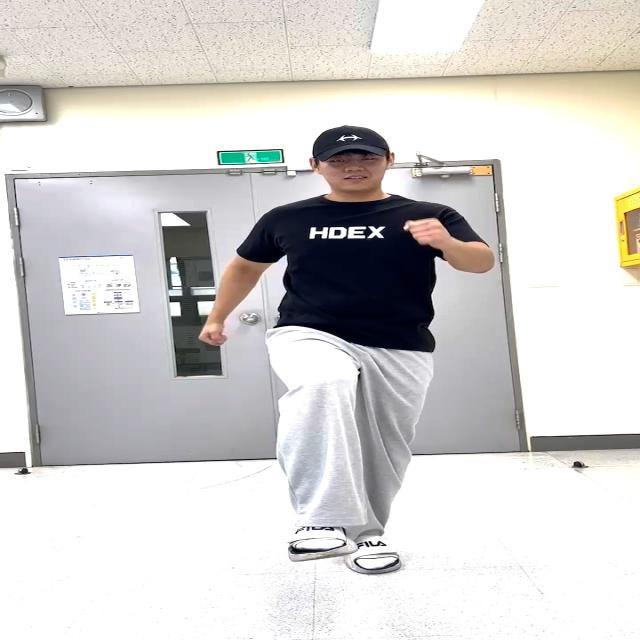leg: (266, 332, 354, 560)
